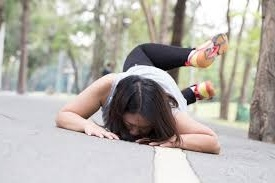fall: (46, 29, 236, 158)
